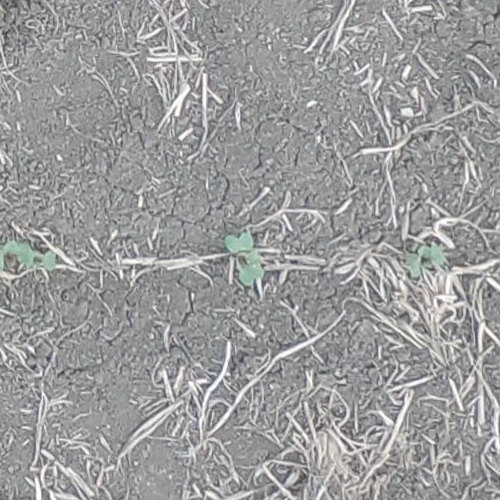plant: (223, 231, 266, 284), (402, 241, 447, 273), (20, 243, 50, 267), (0, 241, 18, 270)
